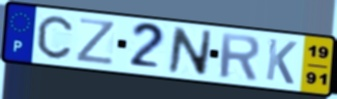2: (127, 21, 169, 75)
C: (36, 14, 75, 61)
K: (263, 36, 299, 87)
N: (166, 25, 214, 78)
R: (218, 31, 262, 82)
Z: (73, 16, 117, 67)
